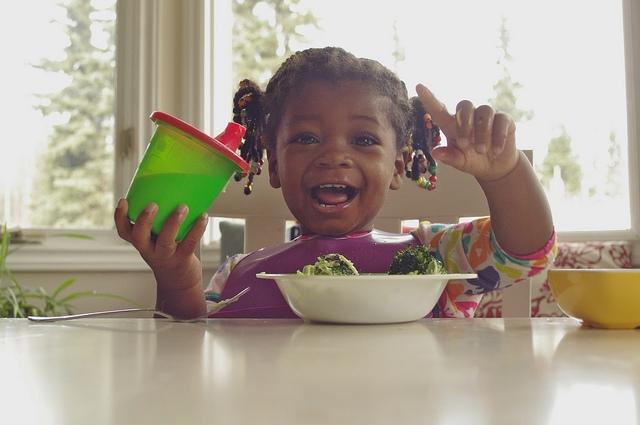broccoli: (387, 243, 433, 275)
